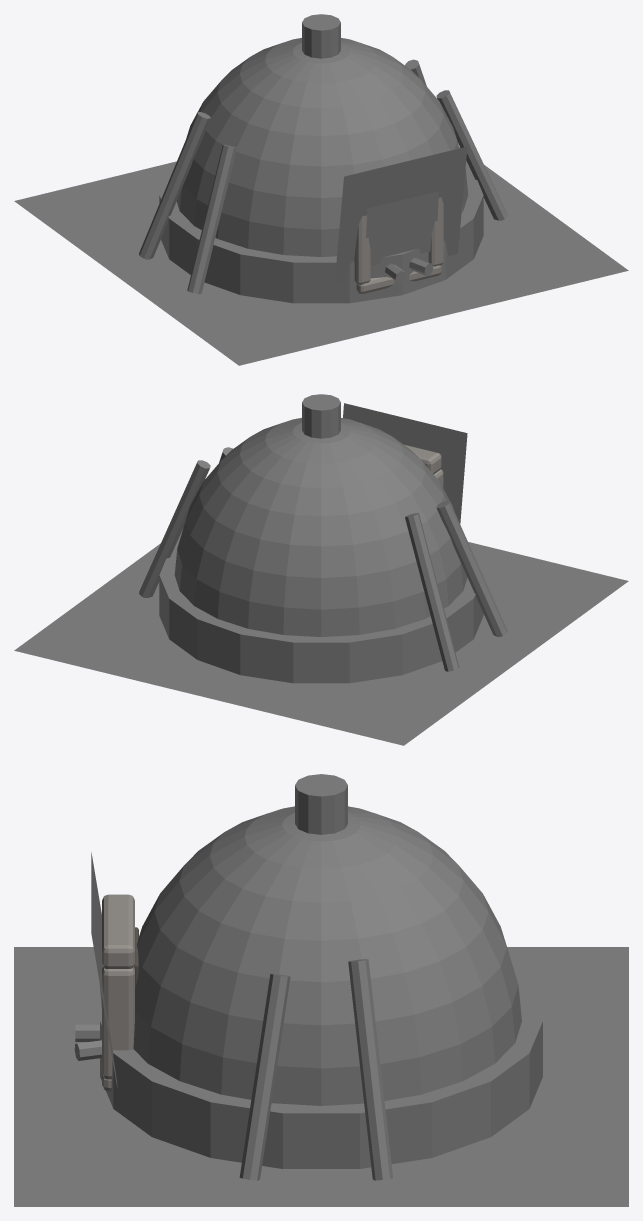
File: kiln.glb
The picture shows the model from 3 angles, top to bottom: view 1: azimuth 30°, elevation 25°; view 2: azimuth 150°, elevation 25°; view 3: azimuth 270°, elevation 25°; orthographic projection. The views are drawn at different scales.
Parts seen in each view (by area): view 1: dome, ContactShadow, base, sootStain, sootCore, brace.001, braceB.001, braceB, vent, mouthPost, mouthPost.001, mouthSill; view 2: dome, ContactShadow, base, sootStain, brace.001, braceB.001, brace, vent; view 3: dome, ContactShadow, base, brace, braceB, vent, mouthPost.001, mouthLintel, sootStain.
Part boxes in pixels (left/top/right/bottom): dome: left=176, top=38, right=468, bottom=256; ContactShadow: left=14, top=146, right=628, bottom=365; base: left=159, top=166, right=483, bottom=303; sootStain: left=334, top=146, right=467, bottom=283; sootCore: left=366, top=191, right=438, bottom=265; brace.001: left=139, top=112, right=210, bottom=259; braceB.001: left=187, top=144, right=236, bottom=294; braceB: left=436, top=90, right=507, bottom=220; vent: left=302, top=14, right=340, bottom=58; mouthPost: left=354, top=215, right=370, bottom=284; mouthPost.001: left=428, top=197, right=443, bottom=266; mouthSill: left=356, top=265, right=441, bottom=293; dome: left=174, top=418, right=467, bottom=636; ContactShadow: left=14, top=528, right=628, bottom=745; base: left=159, top=545, right=483, bottom=683; sootStain: left=343, top=403, right=467, bottom=523; brace.001: left=405, top=513, right=459, bottom=671; braceB.001: left=436, top=500, right=507, bottom=636; brace: left=139, top=460, right=210, bottom=597; vent: left=302, top=394, right=340, bottom=438; dome: left=133, top=806, right=521, bottom=1105; ContactShadow: left=14, top=947, right=628, bottom=1206; base: left=100, top=980, right=542, bottom=1168; brace: left=348, top=959, right=392, bottom=1180; braceB: left=239, top=973, right=290, bottom=1180; vent: left=295, top=774, right=347, bottom=834; mouthPost.001: left=102, top=966, right=134, bottom=1079; mouthLintel: left=102, top=894, right=134, bottom=968; sootStain: left=91, top=852, right=117, bottom=1087.
Bounding box in the file's own units: 3 × 1.59 × 3.
11 materials, 7 textured.
